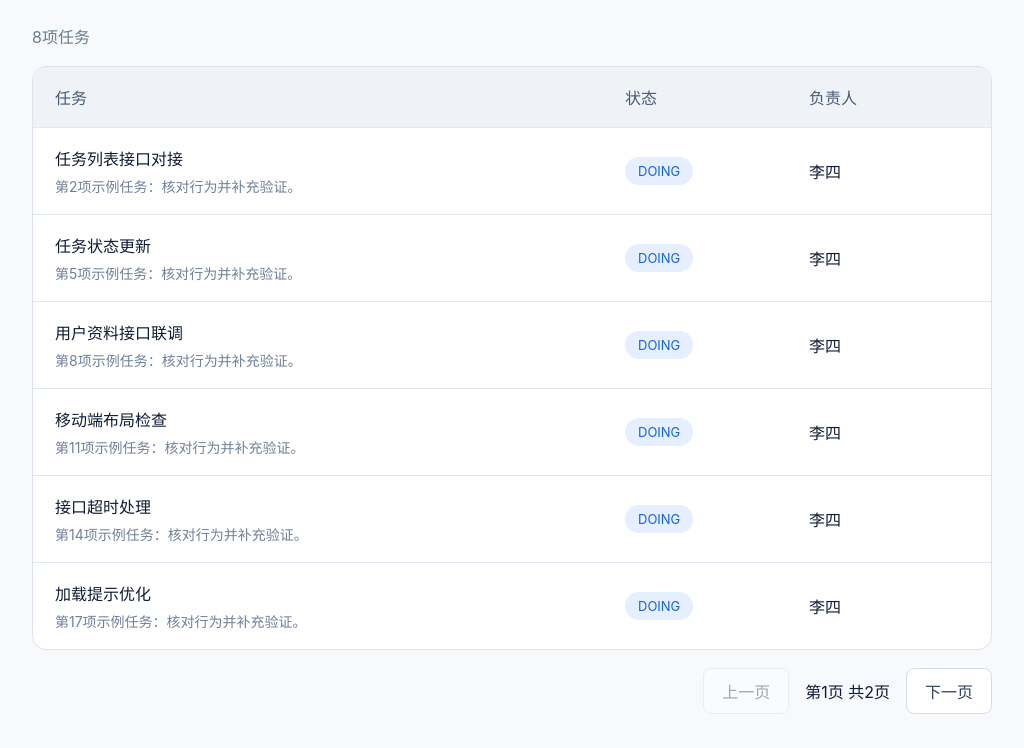
it: T2 URL 状态同步 › 翻页以 push 写入 URL
This screenshot has width=1024, height=748.
(page scrolled)
Expected: the text "任务列表接口对接" is shown, [55, 149, 183, 169]
Click the button "下一页": coordinates (949, 691) [906, 668, 992, 714]
(page scrolled)
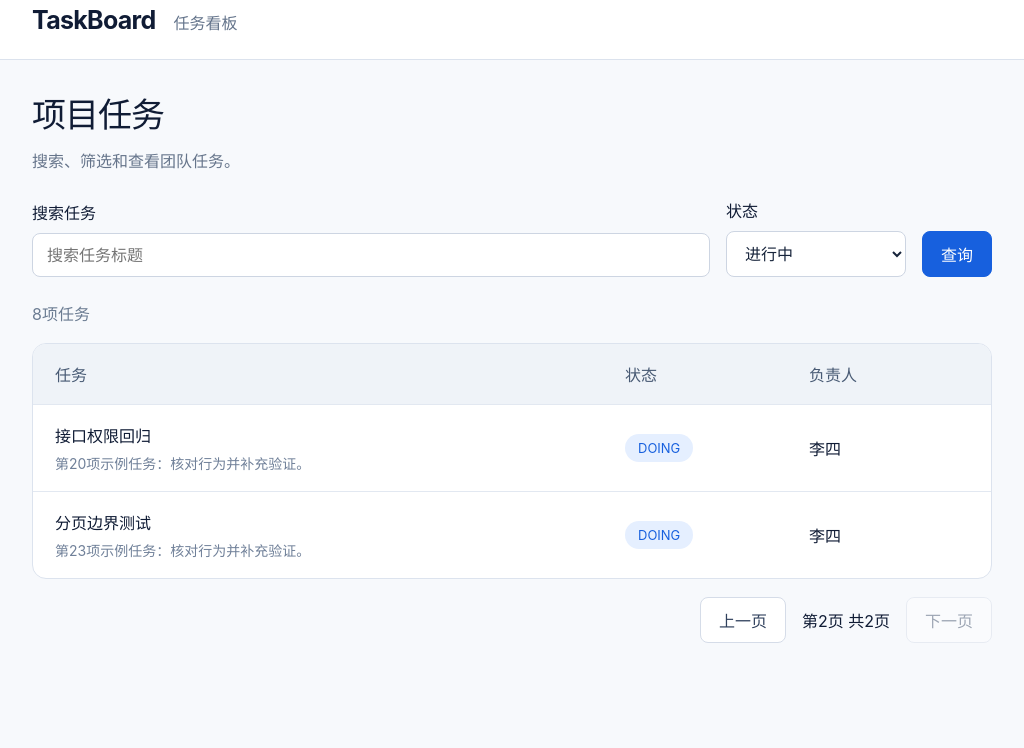
Now the text "接口权限回归" is shown, box [55, 426, 151, 446]
Now the text "第2页 共2页" is shown, box [802, 608, 890, 632]
